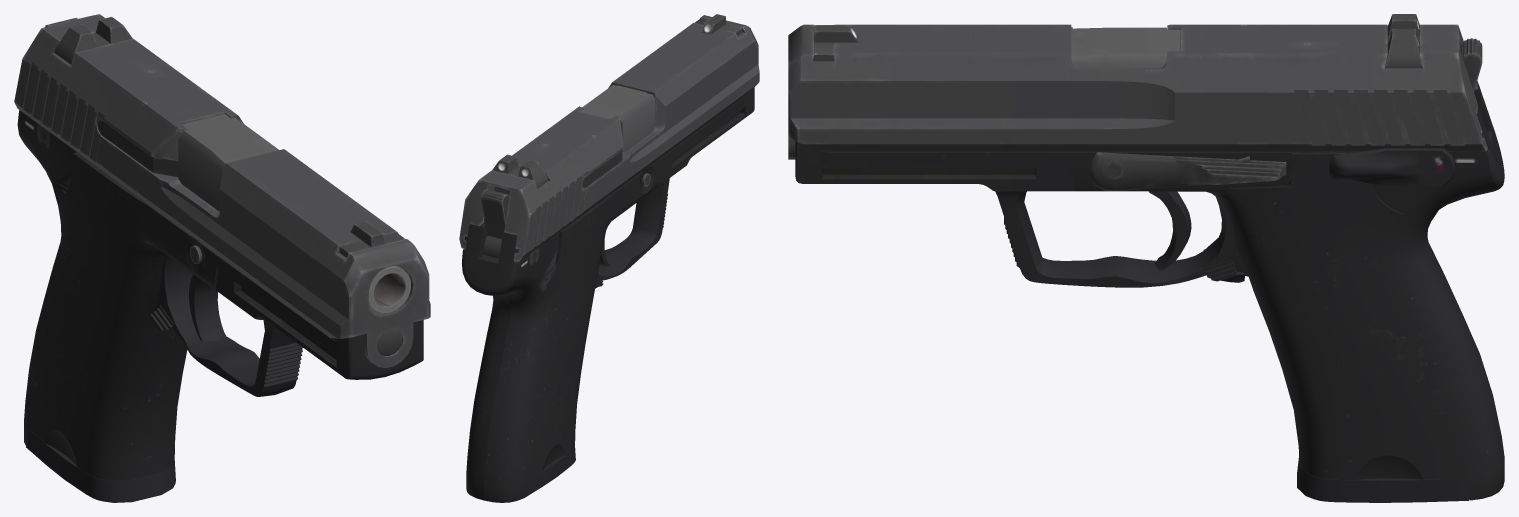
Rendered from h7_service.glb.
The picture shows the model from 3 angles, left to right: view 1: azimuth 30°, elevation 25°; view 2: azimuth 150°, elevation 25°; view 3: azimuth 270°, elevation 25°; orthographic projection. The views are drawn at different scales.
Parts seen in each view (by area): view 1: body, slide; view 2: body, slide; view 3: body, slide.
Boxes of the visible parts, x1,y1,x2,y2 form: body: (17,16,423,502); slide: (14,14,430,367); body: (462,14,754,502); slide: (459,15,759,261); body: (795,14,1504,502); slide: (788,24,1487,159).
Bounding box in the file's own units: 0.0325 × 0.1371 × 0.195.
Materials: 1 (1 with a texture image).
